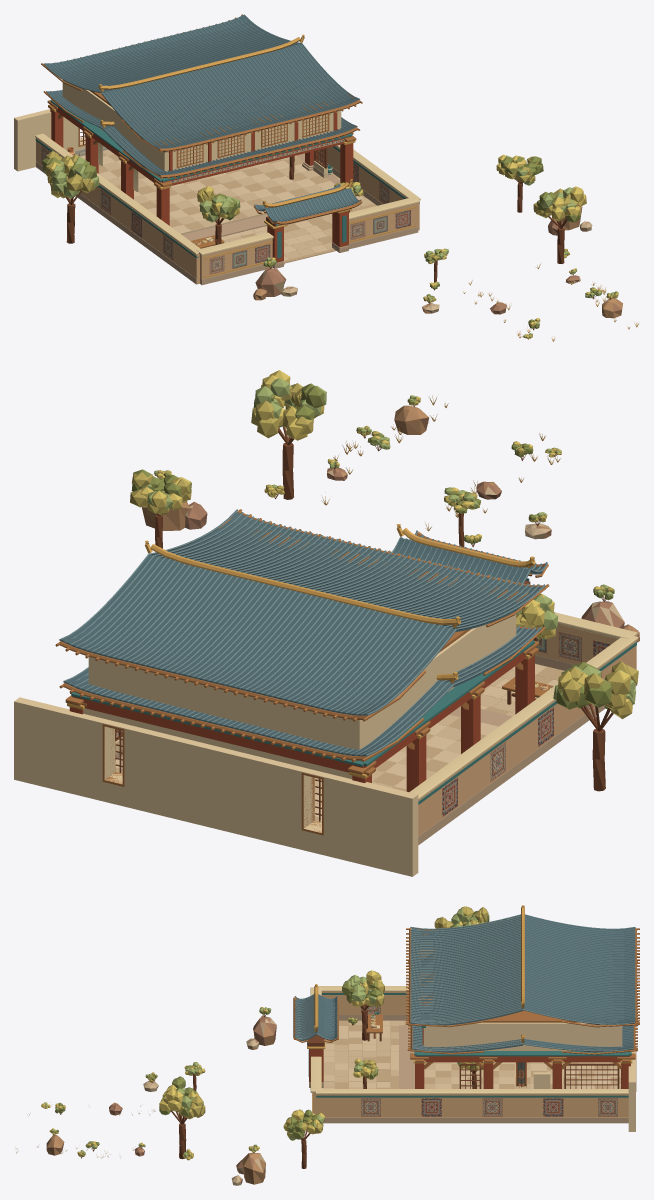
File: courtyard.glb
3 renders of one model, top to bottom at view 1: azimuth 30°, elevation 25°; view 2: azimuth 150°, elevation 25°; view 3: azimuth 270°, elevation 25°, orthographic. The views are drawn at different scales.
Visible parts, largest first — view 1: hall-v003-upper-roof, hall-v003-upper-wall-front, hall-v003-paving-c, hall-v003-paving-b, hall-v003-paving-a, entrance-roof, courtyard-paving, courtyard-side-wall, tree-court-outer-west-canopy, hall-v003-upper-wall-left, courtyard-square-rear-pier-0, hall-v003-lower-eave-left (+22 smaller); view 2: hall-v003-upper-roof, courtyard-square-rear-pier-1, courtyard-square-rear-pier-0, courtyard-square-rear-pier-2, hall-v003-upper-wall-rear, courtyard-side-wall, hall-v003-upper-wall-left, hall-v003-lower-eave-rear, tree-road-east-canopy, hall-v003-lower-eave-left, entrance-roof, tree-court-outer-west-canopy (+24 smaller); view 3: hall-v003-upper-roof, courtyard-side-wall-001, hall-v003-upper-wall-right, courtyard-paving, courtyard-wall-plinth-001, entrance-roof, courtyard-wall-coping-001, hall-v003-lower-eave-right, hall-v003-paving-c, hall-v003-paving-b, hall-v003-paving-a, tree-road-east-canopy (+15 smaller).
Part boxes in pixels (box(x1,y1,x2,y2)): hall-v003-upper-roof: box(41, 14, 362, 152); hall-v003-upper-wall-front: box(166, 111, 339, 171); hall-v003-paving-c: box(80, 155, 334, 233); hall-v003-paving-b: box(98, 153, 329, 230); hall-v003-paving-a: box(98, 149, 327, 227); entrance-roof: box(254, 179, 362, 224); courtyard-paving: box(211, 158, 374, 260); courtyard-side-wall: box(36, 138, 199, 284); tree-court-outer-west-canopy: box(42, 151, 99, 198); hall-v003-upper-wall-left: box(62, 80, 167, 170); courtyard-square-rear-pier-0: box(14, 109, 51, 171); hall-v003-lower-eave-left: box(43, 90, 172, 178); hall-v003-upper-roof: box(55, 509, 549, 721); courtyard-square-rear-pier-1: box(122, 724, 309, 850); courtyard-square-rear-pier-0: box(322, 773, 418, 876); courtyard-square-rear-pier-2: box(14, 697, 110, 801); hall-v003-upper-wall-rear: box(91, 657, 356, 749); courtyard-side-wall: box(418, 641, 636, 836); hall-v003-upper-wall-left: box(354, 612, 516, 749); hall-v003-lower-eave-rear: box(79, 685, 356, 760); tree-road-east-canopy: box(251, 370, 326, 440); hall-v003-lower-eave-left: box(347, 626, 545, 762); entrance-roof: box(392, 524, 548, 583); tree-court-outer-west-canopy: box(553, 661, 638, 719); hall-v003-upper-roof: box(406, 905, 639, 1027); courtyard-side-wall-001: box(316, 1094, 628, 1117); hall-v003-upper-wall-right: box(423, 1022, 622, 1050); courtyard-paving: box(321, 1020, 408, 1088); courtyard-wall-plinth-001: box(323, 1117, 628, 1123); entrance-roof: box(293, 984, 338, 1042); courtyard-wall-coping-001: box(315, 1089, 628, 1094); hall-v003-lower-eave-right: box(407, 1034, 637, 1054); hall-v003-paving-c: box(424, 1062, 620, 1088); hall-v003-paving-b: box(424, 1062, 620, 1088); hall-v003-paving-a: box(424, 1062, 620, 1088); tree-road-east-canopy: box(159, 1076, 205, 1119).
Bounding box in the file's own units: 39.52 × 10.63 × 51.48.
34 materials, 8 textured.
